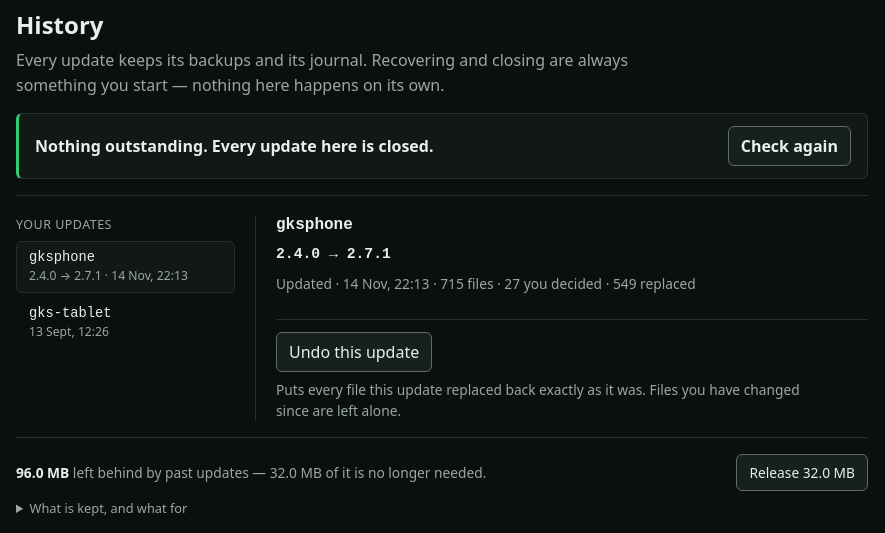
Test: the history screen › reports what a release actually let go of, and reads the store again
The width and height of the screenshot is (885, 533).
Click the button "Release 32.0 MB" at (802, 473), box 736,454 -> 868,491
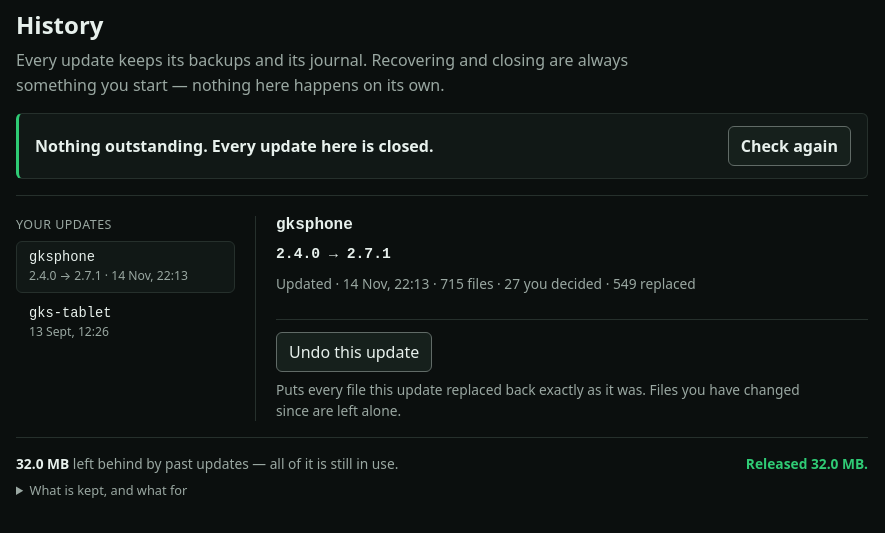
Now the text "Released 32.0 MB" is shown, box 746,454 -> 868,473
Now the text "32.0 MB left behind by past updates" is shown, box 16,454 -> 398,473
